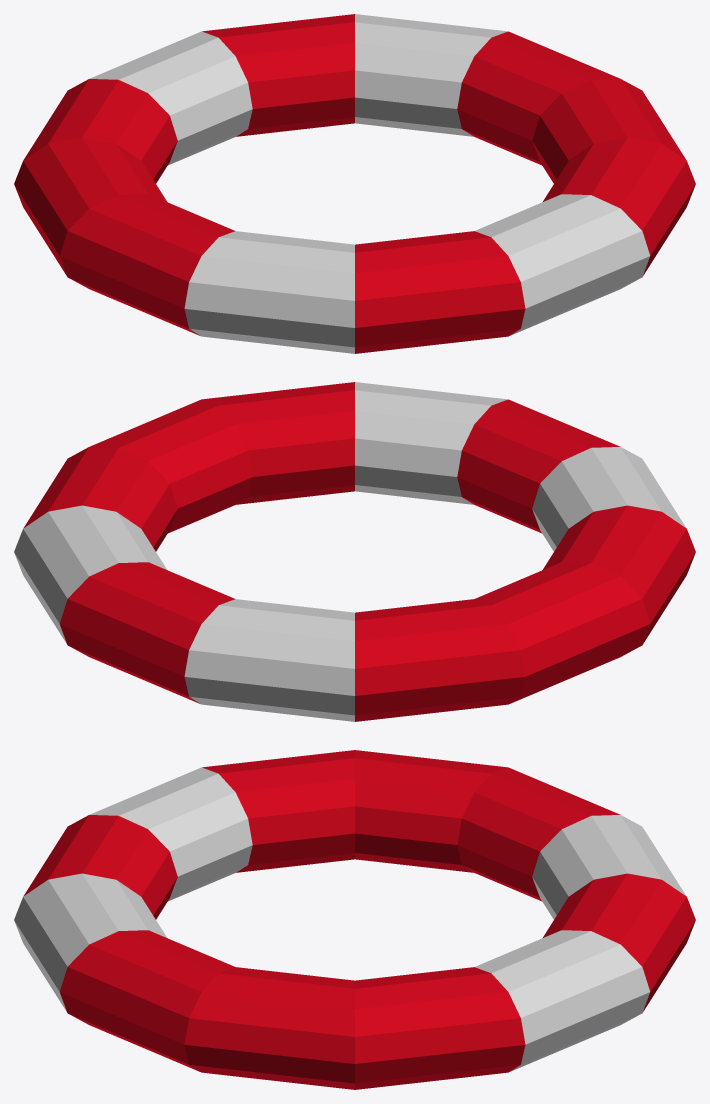
The model's file is LifeBoi.fbx.
The picture shows the model from 3 angles, top to bottom: view 1: azimuth 30°, elevation 25°; view 2: azimuth 150°, elevation 25°; view 3: azimuth 270°, elevation 25°; orthographic projection.
Visible parts, largest first — view 1: LifeBoi; view 2: LifeBoi; view 3: LifeBoi.
Boxes of the visible parts, x1=… form: LifeBoi: x1=14, y1=14, x2=695, y2=353; LifeBoi: x1=14, y1=382, x2=695, y2=721; LifeBoi: x1=14, y1=750, x2=695, y2=1089.
Bounding box in the file's own units: 332 × 49.93 × 332.
